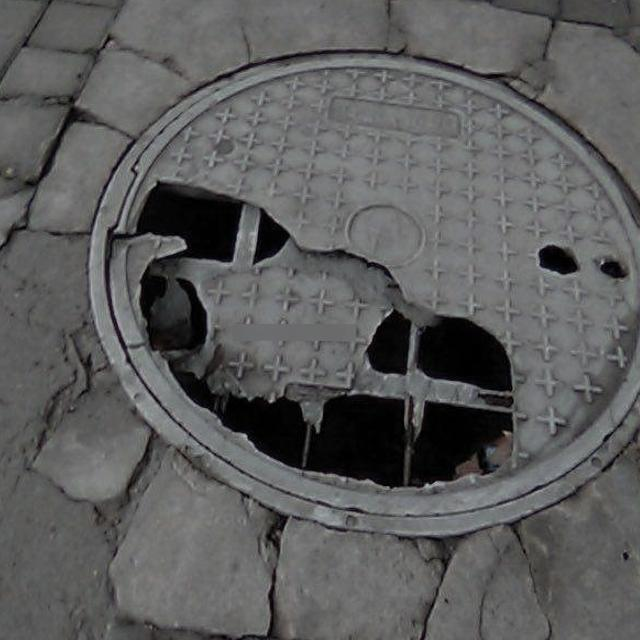broke: (87, 51, 640, 537)
